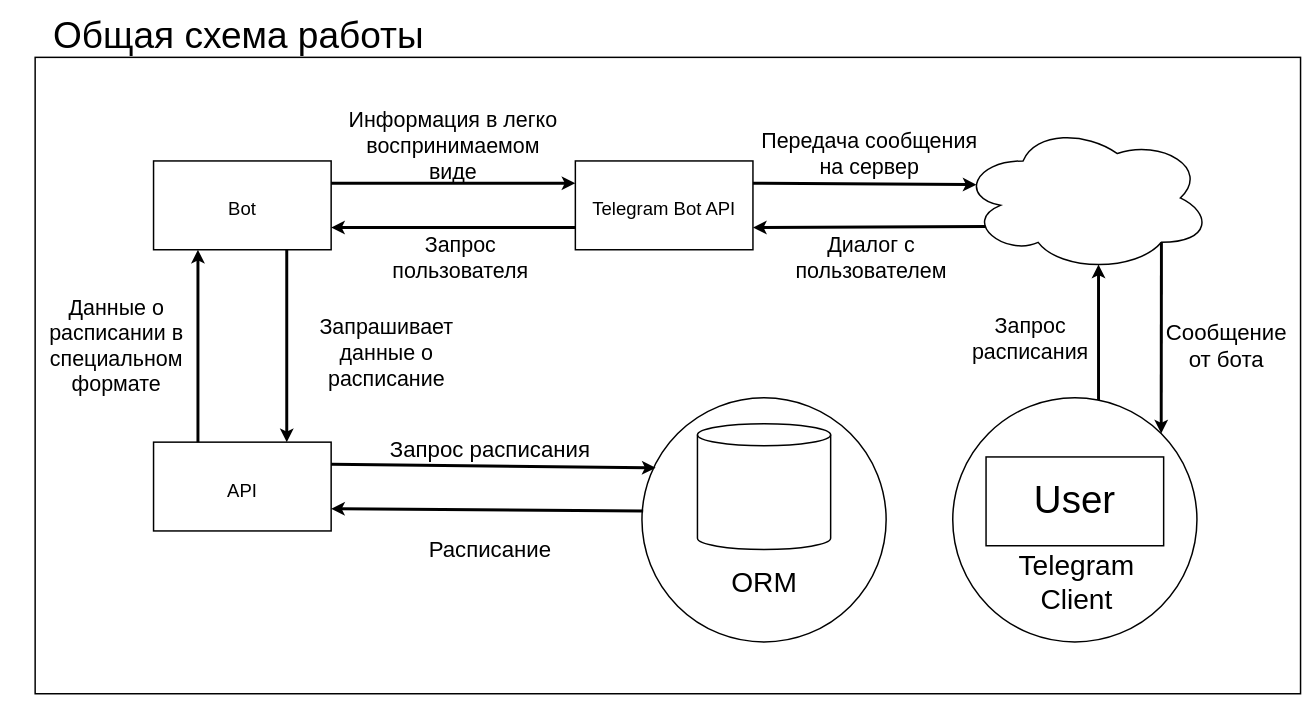
Image size: 1314x707. Some labels were removed from this diagram. The shapes that lost their labels are listed below. From the top down, each one's centre as x and y in pixels, then its label:
the point at 1085,197: Telegram Server
the point at 763,486: Database
